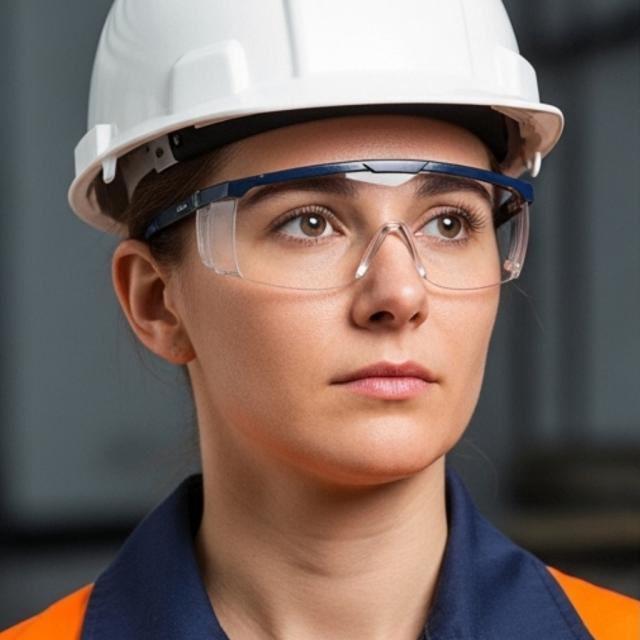oculos-epi: (147, 159, 532, 289)
